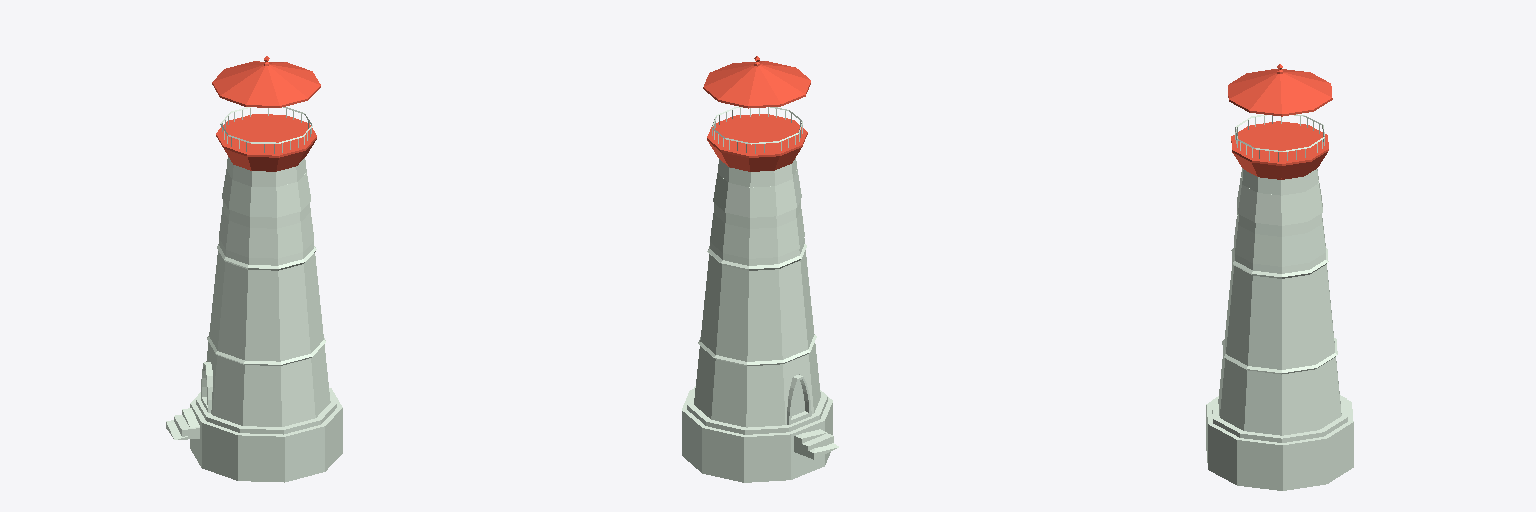
Rendered from lighthouse.obj.
3 views of the same model, side by side, from view 1: azimuth 30°, elevation 25°; view 2: azimuth 150°, elevation 25°; view 3: azimuth 270°, elevation 25° (orthographic).
Parts seen in each view (by area): view 1: Boole_1_Mat.1_0, Stairs_1_Mat.1_0, Cylinder_2_Mat.1_0, Sphere_1_Mat.1_0; view 2: Boole_1_Mat.1_0, Stairs_1_Mat.1_0, Cylinder_2_Mat.1_0, Sphere_1_Mat.1_0, Door_Mat.1_0; view 3: Boole_1_Mat.1_0, Stairs_1_Mat.1_0, Cylinder_2_Mat.1_0, Sphere_1_Mat.1_0.
Part boxes in pixels (x1,y1,x2,y2): Boole_1_Mat.1_0: (206, 157, 330, 426); Stairs_1_Mat.1_0: (166, 388, 342, 482); Cylinder_2_Mat.1_0: (216, 114, 316, 171); Sphere_1_Mat.1_0: (212, 56, 320, 107); Boole_1_Mat.1_0: (694, 158, 820, 427); Stairs_1_Mat.1_0: (682, 386, 838, 482); Cylinder_2_Mat.1_0: (707, 114, 807, 171); Sphere_1_Mat.1_0: (703, 56, 810, 108); Door_Mat.1_0: (787, 375, 811, 424); Boole_1_Mat.1_0: (1218, 168, 1341, 435); Stairs_1_Mat.1_0: (1206, 395, 1353, 490); Cylinder_2_Mat.1_0: (1231, 121, 1328, 179); Sphere_1_Mat.1_0: (1228, 64, 1332, 116).
Size of the model in its own units: 22.74 by 55.92 by 18.86.